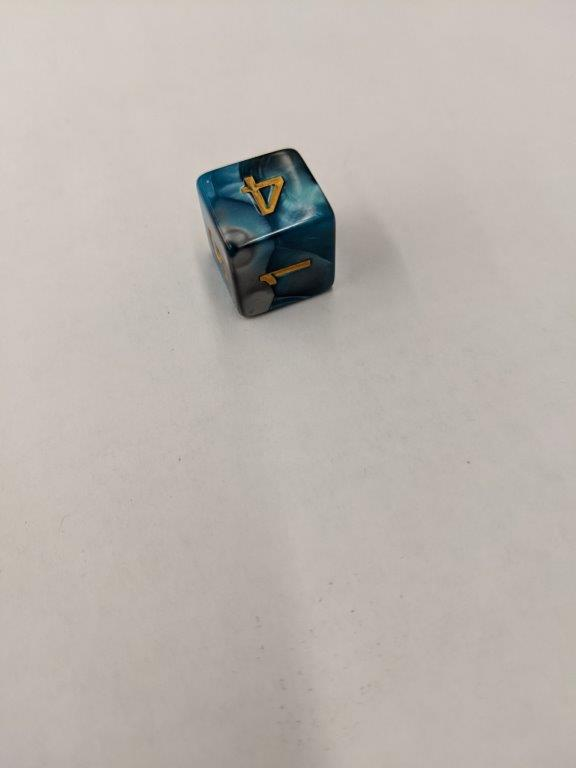d6-4: (194, 145, 338, 322)
